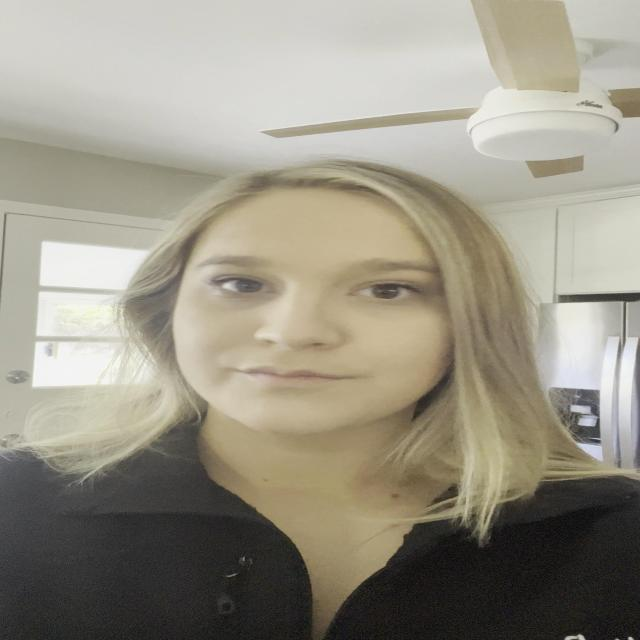no-helmet: (150, 178, 504, 464)
